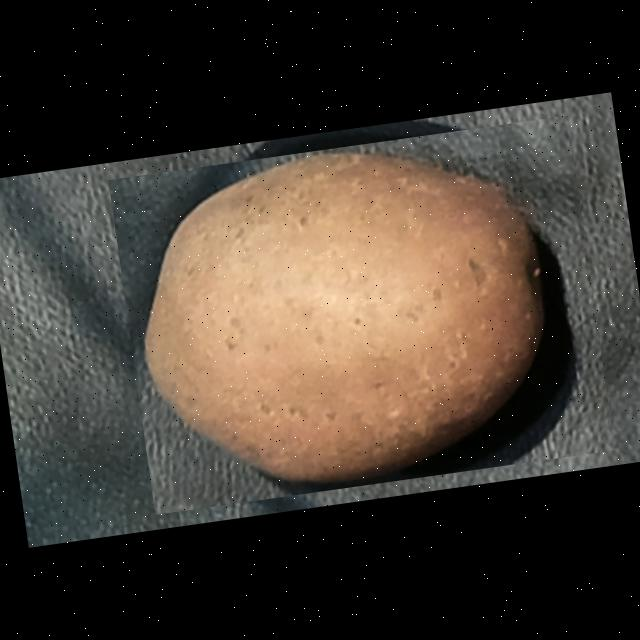Diseased-fungal potato: (108, 116, 615, 514)
